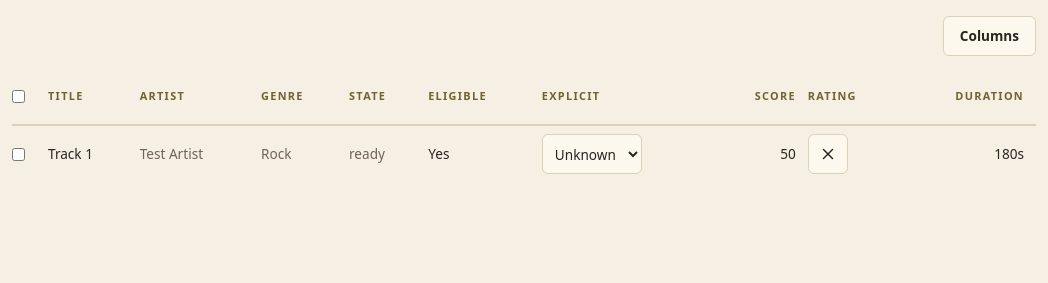
Test: Feature: catalog moods column and filter › Scenario: the moods column › renders each tagged row's mood tags when enabled
Click the button "Columns": (989, 36) [943,16,1036,56]
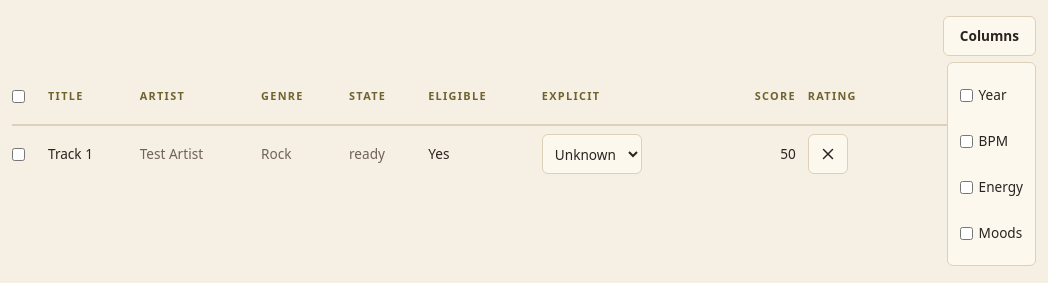
Click the checkbox labelled "Moods": (966, 233) [960,226,973,240]
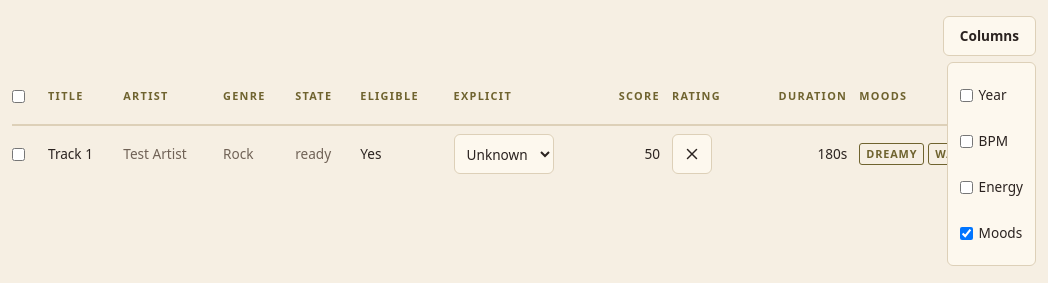
Check: the list items read "dreamy", "warm", in this order, box [859,143,924,165]; [928,143,981,165]
